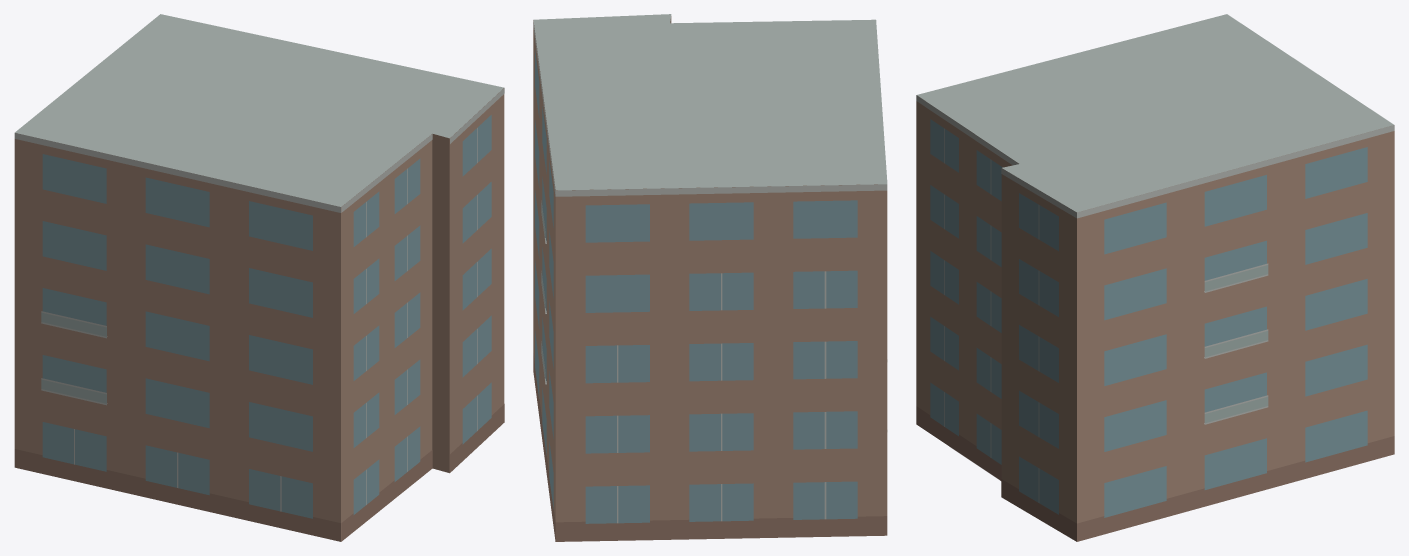
The model's file is survey-upis-32862716.glb.
The picture shows the model from 3 angles, left to right: view 1: azimuth 30°, elevation 25°; view 2: azimuth 150°, elevation 25°; view 3: azimuth 270°, elevation 25°; orthographic projection. The views are drawn at different scales.
Parts seen in each view (by area): view 1: survey-upis-32862716.tmp; view 2: survey-upis-32862716.tmp; view 3: survey-upis-32862716.tmp.
Boxes of the visible parts, x1,y1,x2,y2 form: survey-upis-32862716.tmp: (14, 14, 504, 541); survey-upis-32862716.tmp: (533, 14, 887, 541); survey-upis-32862716.tmp: (916, 14, 1394, 541).
Size of the model in its own units: 17.41 by 13.46 by 17.71.
